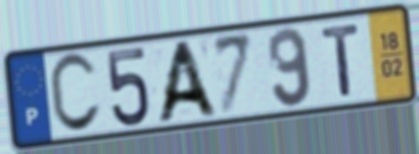5: (102, 43, 152, 128)
7: (213, 29, 255, 119)
9: (266, 25, 314, 111)
A: (152, 37, 221, 126)
C: (46, 50, 105, 137)
T: (319, 21, 363, 100)
